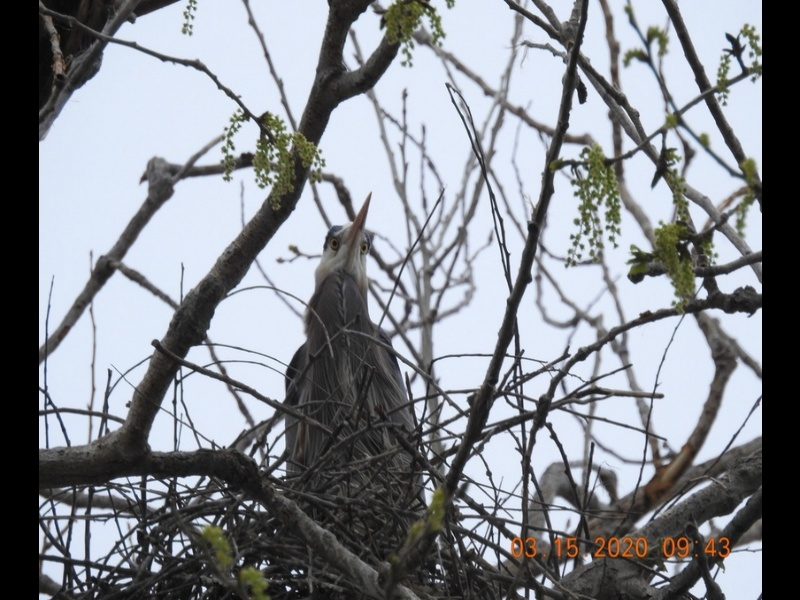heron: (281, 187, 429, 570)
